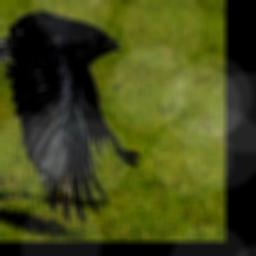Crow: (0, 10, 141, 223)
